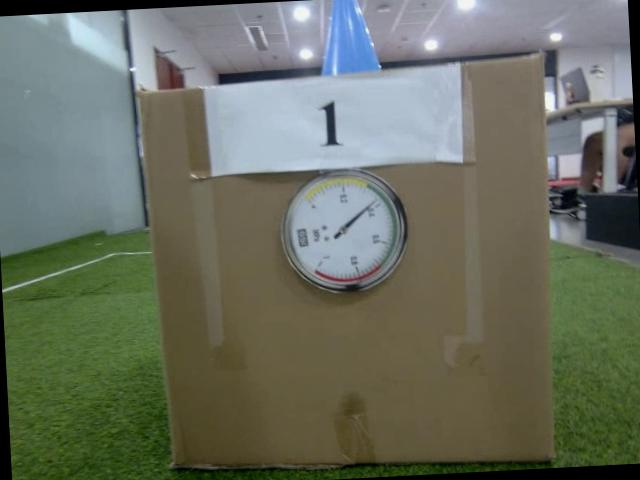1: (316, 100, 344, 148)
Dashboard: (278, 166, 412, 298)
blue_barrel: (316, 0, 382, 76)
ssi: (297, 228, 308, 248)
